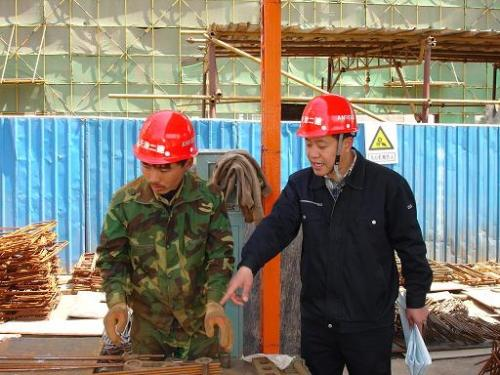gloves: (204, 300, 233, 353), (103, 302, 129, 345)
hard-hat: (133, 110, 199, 165), (296, 94, 359, 139)
person: (219, 93, 434, 374), (95, 108, 236, 362)
ppe-suit: (95, 170, 235, 360)
